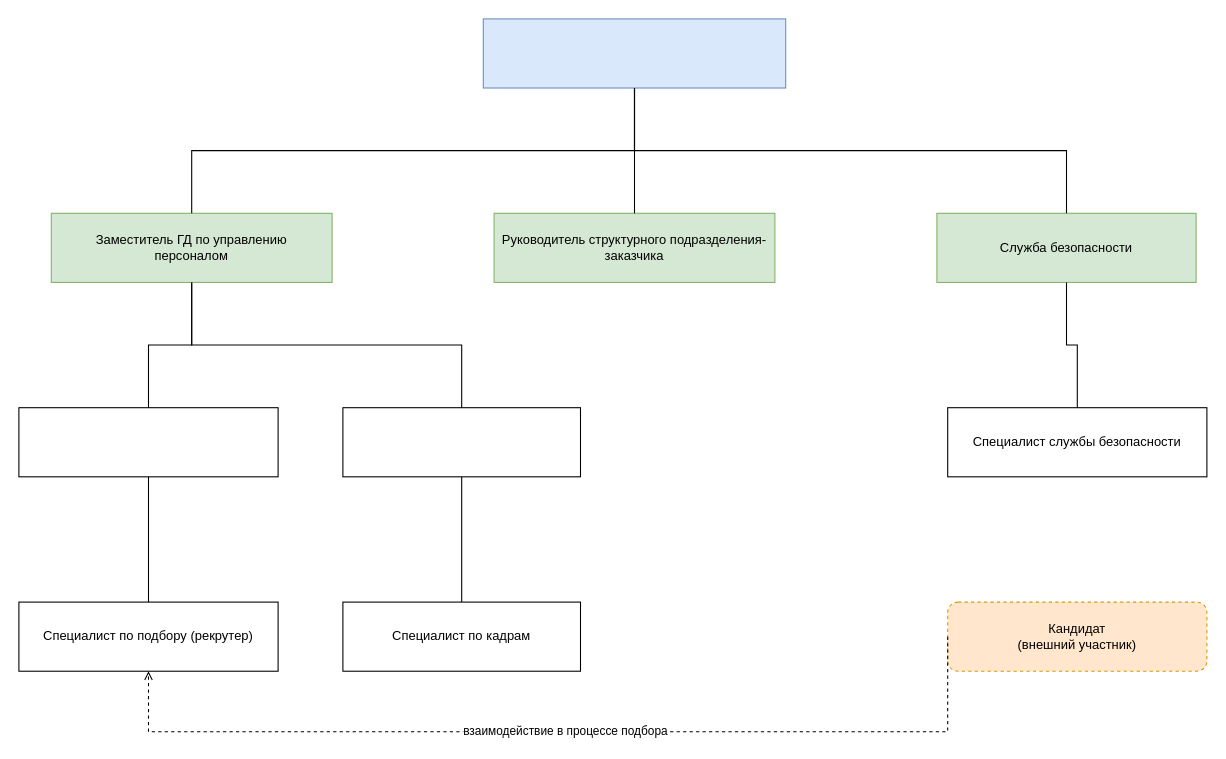
The diagram is 1226 pixels wide and 759 high, and some of its shapes have lost their labels. The shapes that lost their labels are listed below. From the top down, each one's centre as x and y in pixels, then its label:
[634,53]: Генеральный директор ПАО «ОГК-2»
[148,442]: Отдел подбора и адаптации персонала
[461,442]: Отдел кадров
